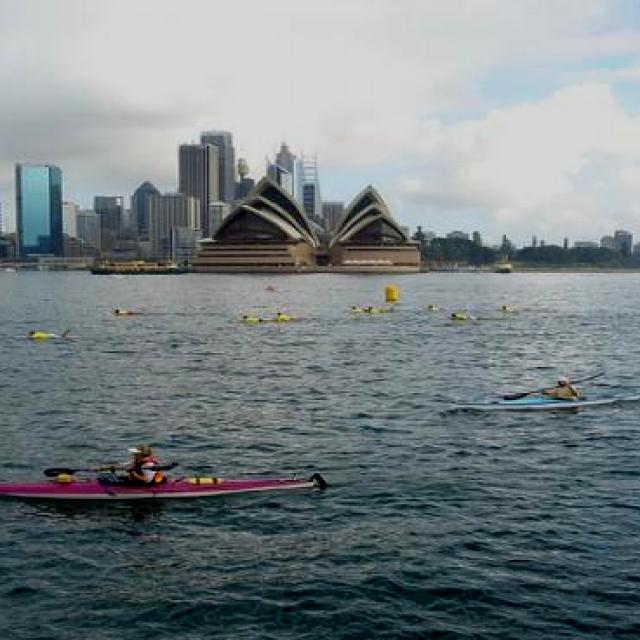ship: (0, 470, 325, 510), (452, 388, 640, 412), (90, 257, 188, 275)
